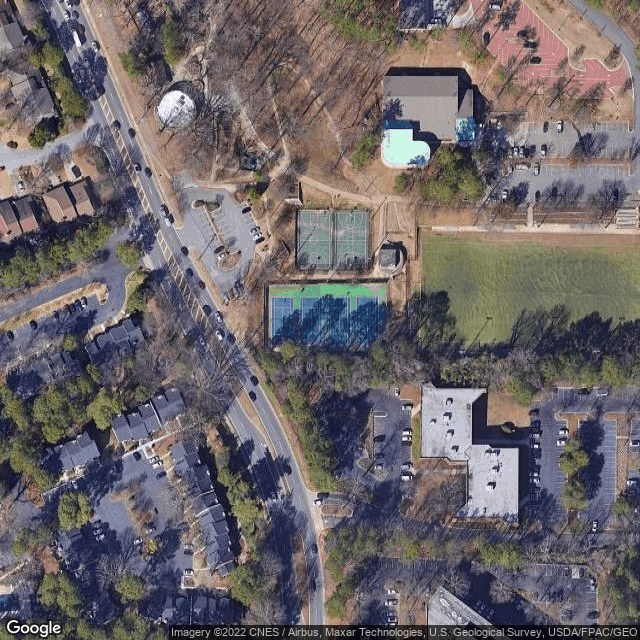Court: (355, 295, 380, 343), (300, 296, 324, 345), (271, 296, 294, 344), (329, 296, 350, 344)
